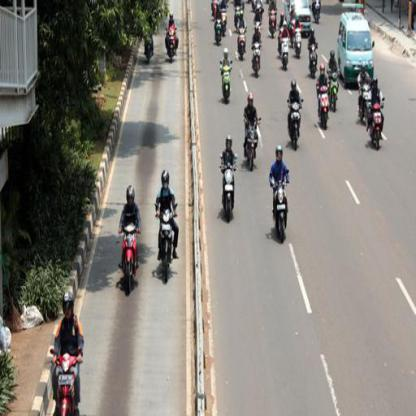car: (336, 13, 374, 89), (284, 0, 314, 34)
motorbike: (51, 352, 83, 415), (154, 209, 180, 286), (270, 177, 292, 244), (120, 221, 141, 291), (219, 162, 238, 221), (365, 101, 386, 150), (243, 121, 259, 172), (316, 84, 332, 130), (162, 24, 182, 60), (287, 104, 302, 151), (220, 64, 233, 106), (279, 36, 291, 70), (250, 42, 262, 76), (236, 28, 247, 59), (215, 17, 223, 44)
